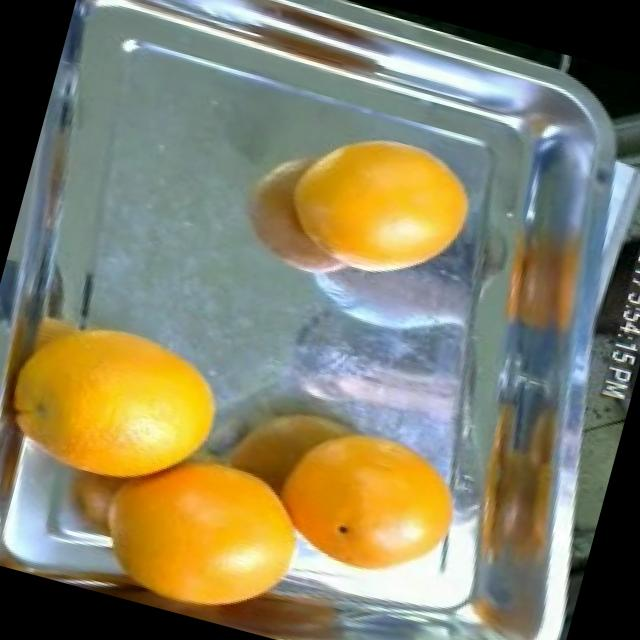Fruit: (243, 390, 490, 614), (260, 102, 503, 312), (26, 302, 252, 512), (469, 202, 624, 367)
